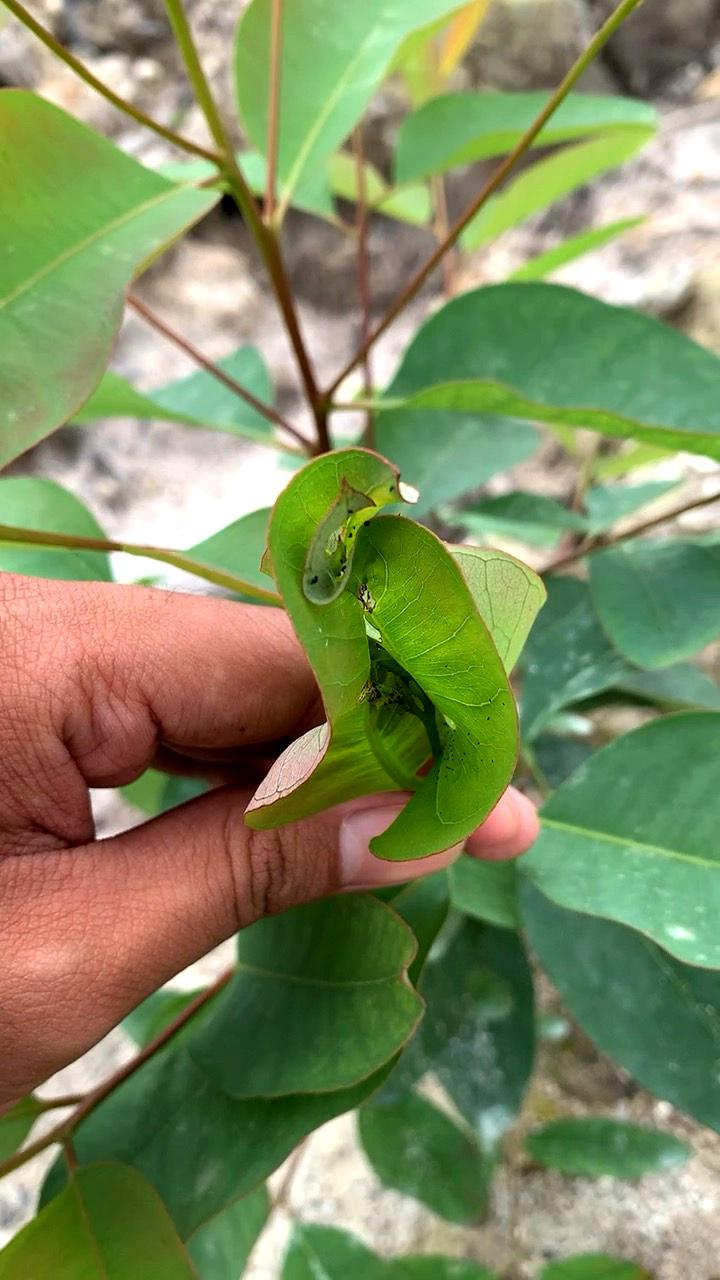Leaf Roller - Leaf: (235, 426, 557, 884)
